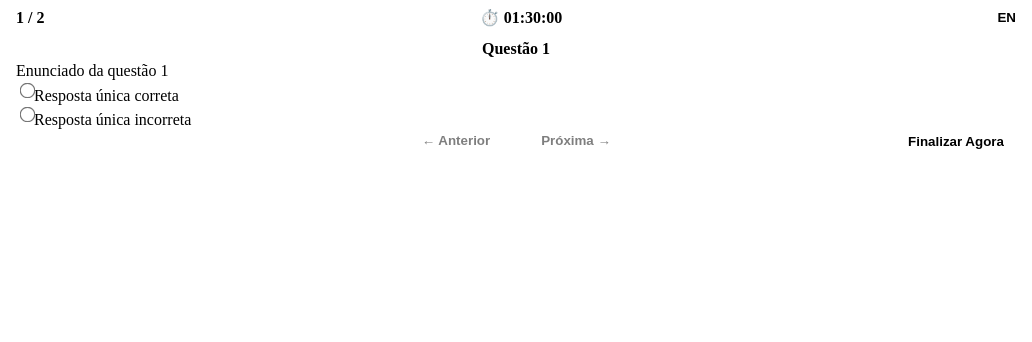
no simulado completo, confirma as opções corretas e calcula a pontuação ao finalizar
Click the text "Resposta única correta". click: point(106, 95)
box: [34,87,179,104]
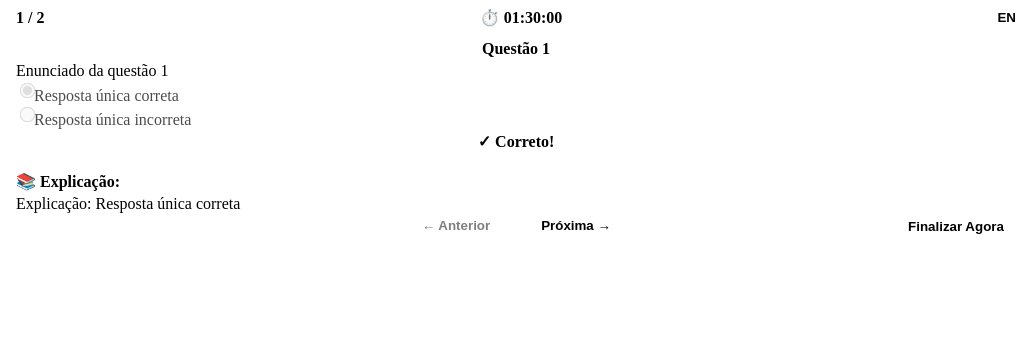
Click the button "Próxima →". click: point(576, 226)
box: [516,218,636,233]
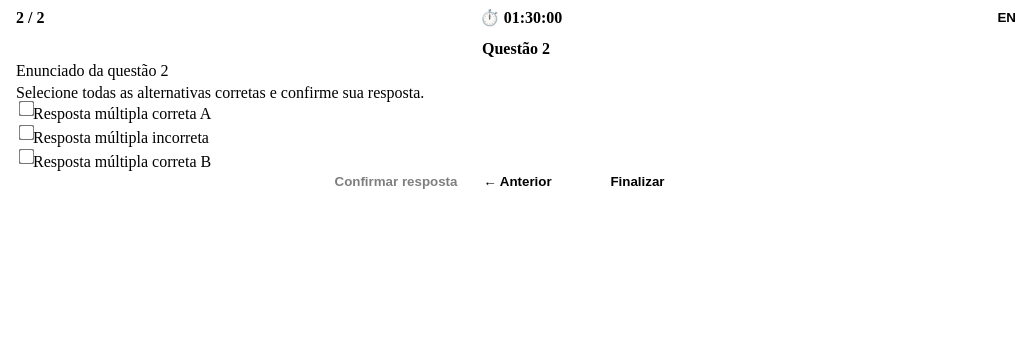
expect the button "Finalizar" is enabled: met, box [578,174,698,189]
expect the text "Enunciado da questão 2" is shown: met, box [16,62,168,79]
expect the number of checkboxes is 3: met
Click the checkbox labelled "Resposta múltipla correta A". click: point(26, 108)
box: [19,101,34,116]
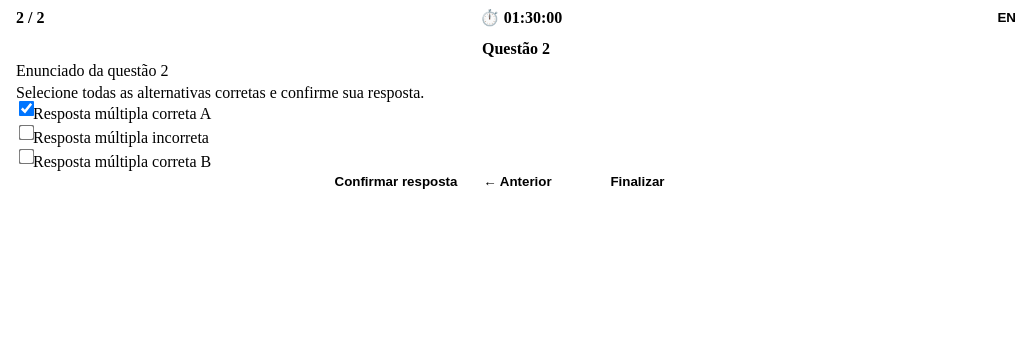
Click the checkbox labelled "Resposta múltipla correta B". click: point(26, 156)
box: [19,149,34,164]
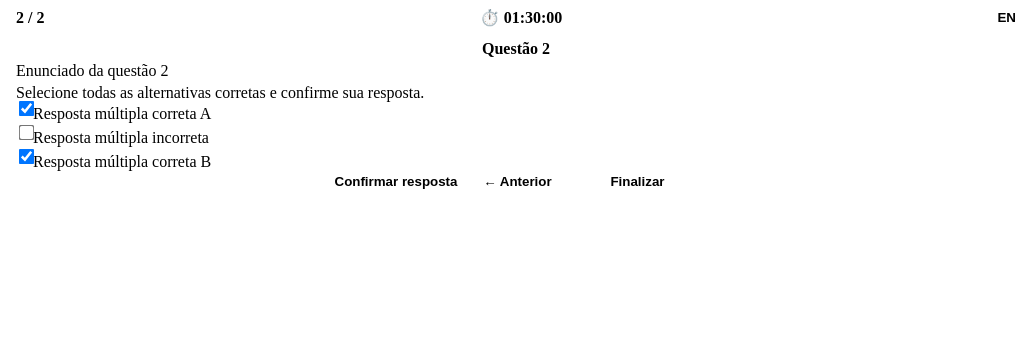
expect the text "✓ Correto!" is not shown: met
expect the checkbox labelled "Resposta múltipla correta A" is checked: met, box [19,101,34,116]
expect the checkbox labelled "Resposta múltipla correta B" is checked: met, box [19,149,34,164]
Click the button "Confirmar resposta". click: point(396, 181)
box: [334,174,458,189]
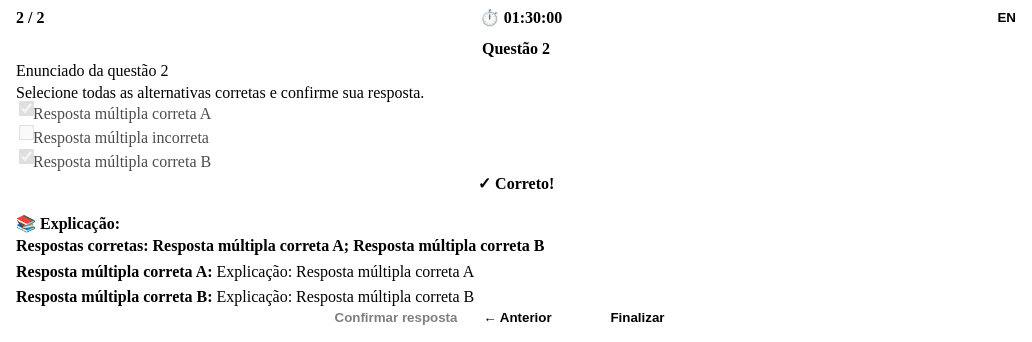
expect the button "Finalizar" is enabled: met
expect the text "✓ Correto!" is shown: met, box [478,175,554,192]
expect the text "Respostas corretas:" shows "Resposta múltipla correta A; Resposta múltipla correta B": met, box [153,237,544,254]
Click the button "Finalizar". click: point(638, 317)
box: [578,310,698,325]
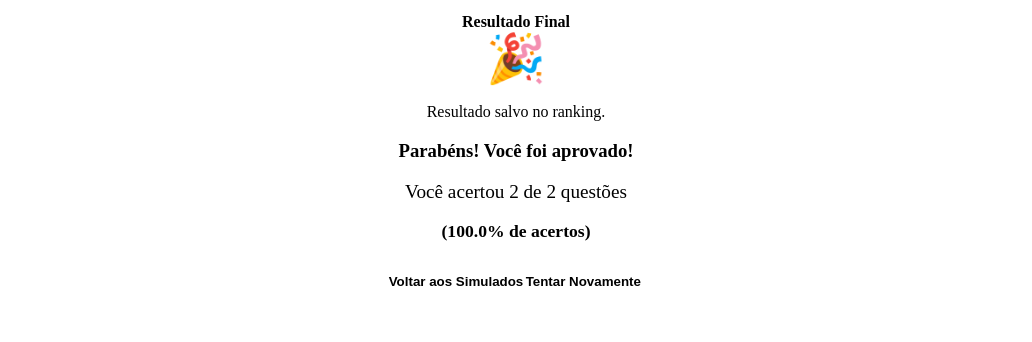
expect the text "Você acertou 2 de 2 questões" is shown: met, box [405,181,627,202]
expect the text "Resultado salvo no ranking." is shown: met, box [427,103,605,120]
